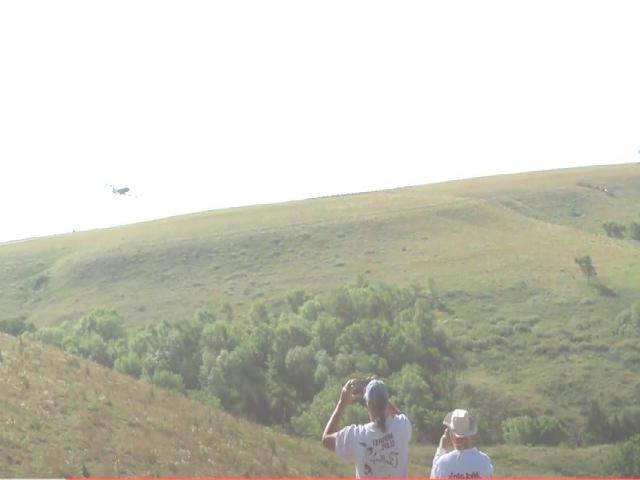iha: (97, 171, 145, 206)
